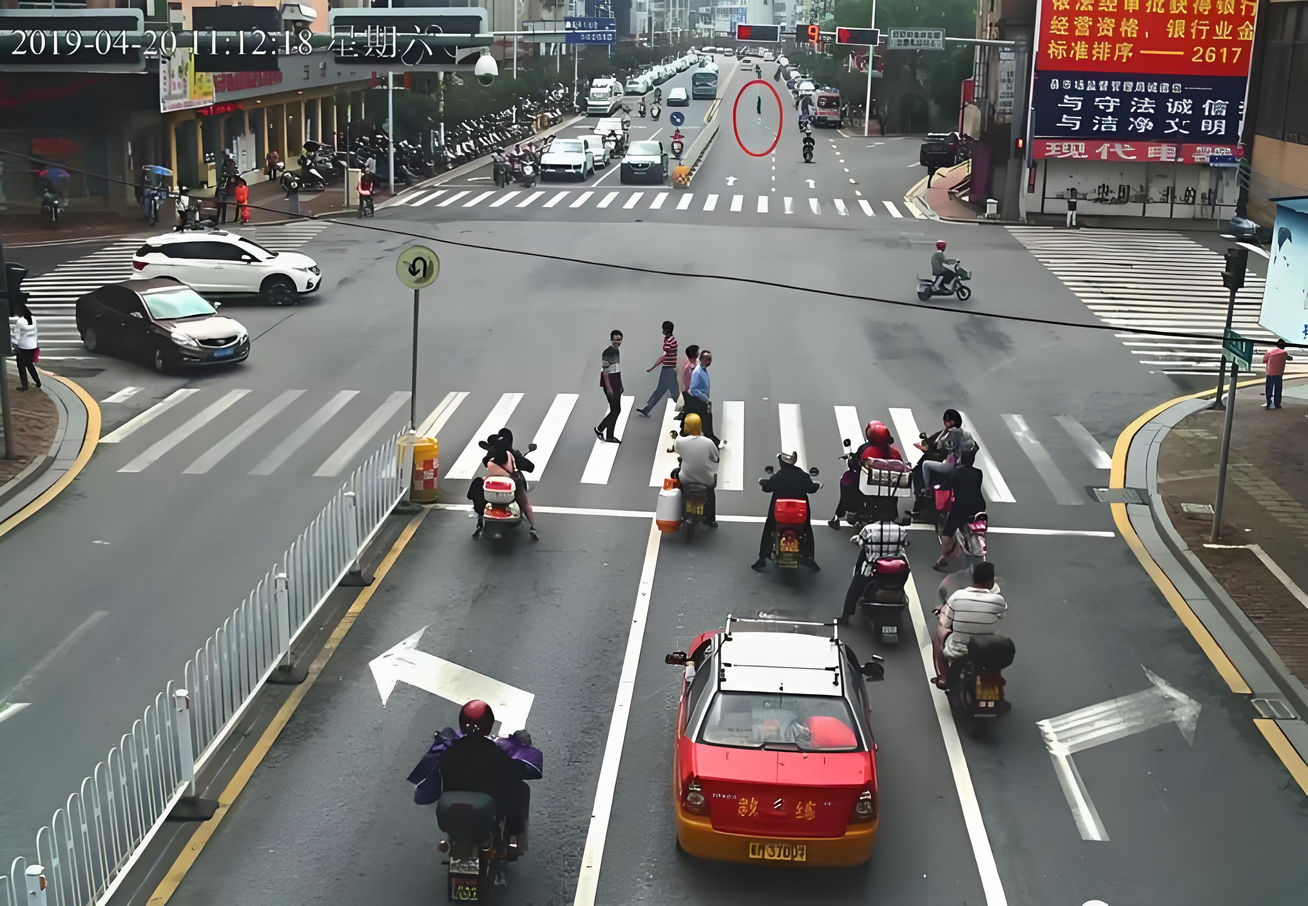car: (668, 601, 884, 879), (65, 270, 264, 385), (128, 221, 335, 327), (539, 134, 610, 190), (614, 132, 673, 190), (593, 116, 637, 157), (578, 131, 614, 168)
motorbike: (390, 703, 552, 900), (744, 461, 826, 592), (453, 437, 539, 544), (837, 441, 927, 543), (947, 595, 1009, 727), (842, 551, 919, 643), (919, 444, 982, 555), (655, 433, 720, 537), (897, 247, 991, 305), (515, 144, 542, 188), (486, 142, 508, 187)
person: (588, 322, 637, 447), (670, 338, 728, 441), (650, 310, 682, 418), (347, 161, 383, 217)
